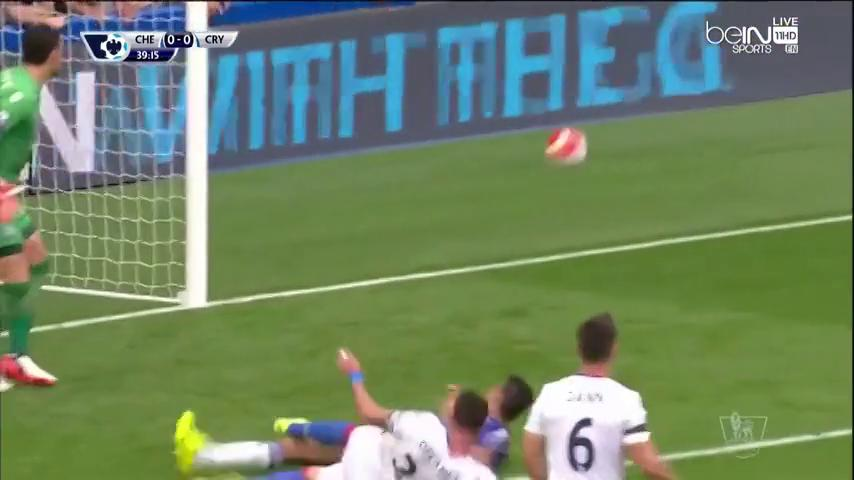football: (545, 126, 588, 166)
